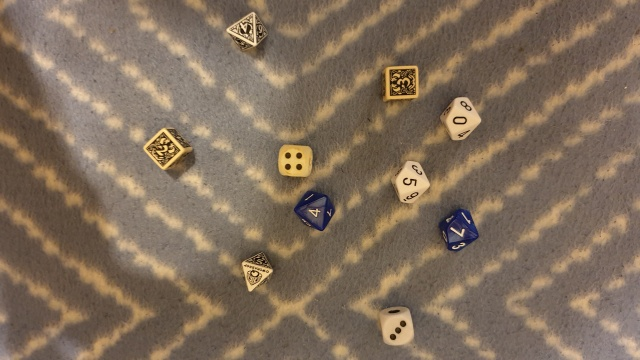d10-10: (435, 90, 487, 146)
d10-4: (290, 184, 341, 238)
d10-5: (387, 155, 435, 211)
d10-7: (435, 204, 482, 258)
d6-3: (374, 299, 420, 348)
d6-4: (276, 138, 314, 179)
d6p-2: (140, 124, 191, 173)
d6p-3: (378, 59, 423, 105)
d8p-4: (225, 8, 272, 55)
d8p-8: (237, 241, 277, 296)
